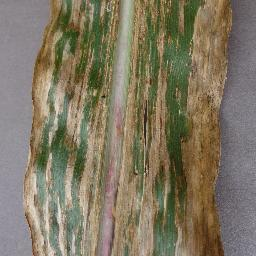Gray_Leaf_Spot: (21, 0, 256, 256)
